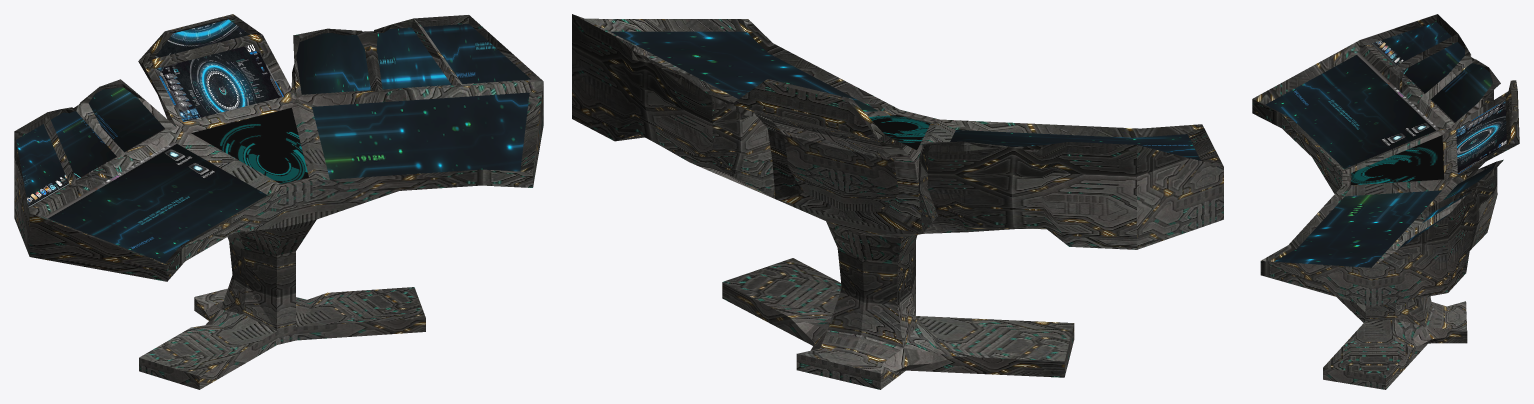
Rendered from terminal.glb.
The picture shows the model from 3 angles, left to right: view 1: azimuth 30°, elevation 25°; view 2: azimuth 150°, elevation 25°; view 3: azimuth 270°, elevation 25°; orthographic projection. The views are drawn at different scales.
Parts seen in each view (by area): view 1: MaterialFBXASC032FBXASC0352142148579; view 2: MaterialFBXASC032FBXASC0352142148579; view 3: MaterialFBXASC032FBXASC0352142148579.
Boxes of the visible parts, x1=… form: MaterialFBXASC032FBXASC0352142148579: x1=14, y1=14, x2=543, y2=389; MaterialFBXASC032FBXASC0352142148579: x1=572, y1=14, x2=1223, y2=389; MaterialFBXASC032FBXASC0352142148579: x1=1252, y1=14, x2=1519, y2=389.
Size of the model in its own units: 34.21 by 16.27 by 16.99.
Materials: 4 (4 with a texture image).
